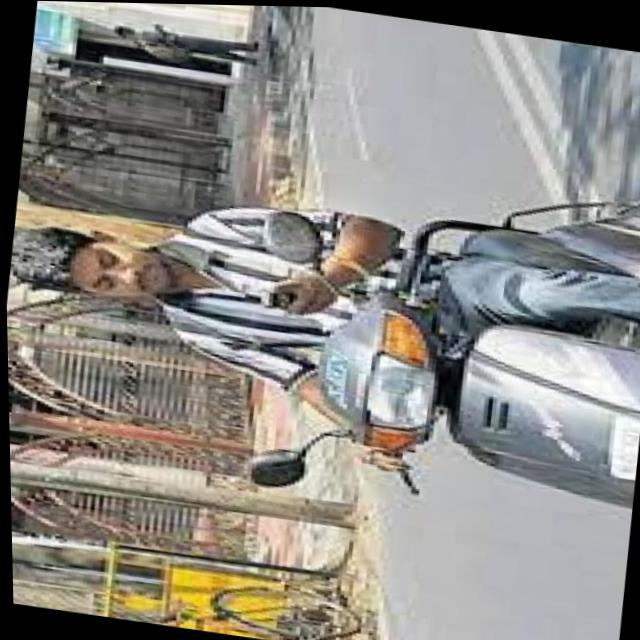USING_MOBILE: (6, 215, 340, 328)
